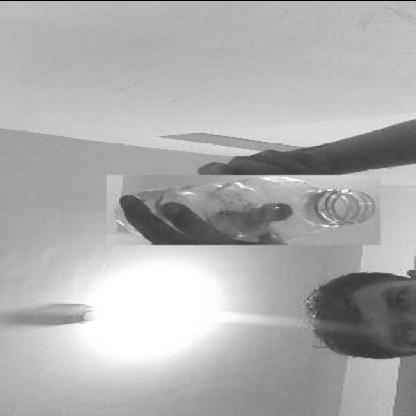plastic_bottles: (106, 174, 380, 244)
